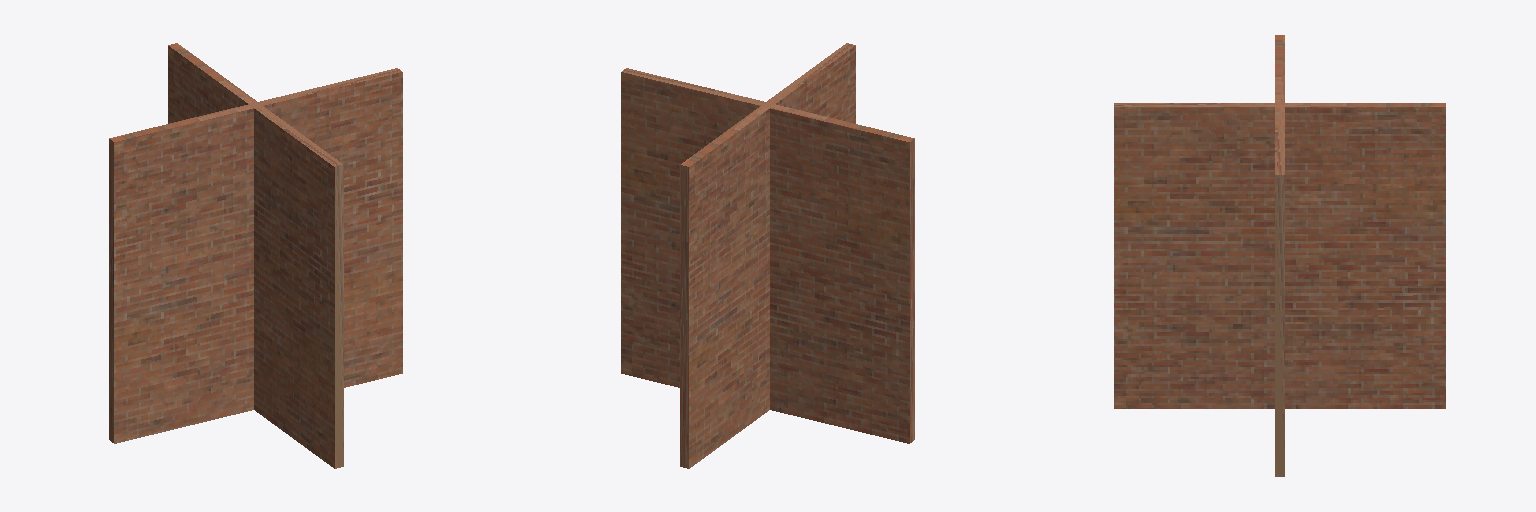
3 views of the same model, side by side, from view 1: azimuth 30°, elevation 25°; view 2: azimuth 150°, elevation 25°; view 3: azimuth 270°, elevation 25° (orthographic).
Visible parts, largest first — view 1: Cube.001_Cube.002, Cube_Cube.001; view 2: Cube.001_Cube.002, Cube_Cube.001; view 3: Cube_Cube.001, Cube.001_Cube.002.
Part boxes in pixels (x1,y1,x2,y2): Cube.001_Cube.002: (109, 68, 402, 443); Cube_Cube.001: (168, 43, 343, 468); Cube.001_Cube.002: (621, 68, 914, 443); Cube_Cube.001: (680, 43, 855, 468); Cube_Cube.001: (1114, 103, 1445, 408); Cube.001_Cube.002: (1275, 35, 1284, 476).
Size of the model in its own units: 10.63 by 10.63 by 10.63.
2 materials, 1 textured.